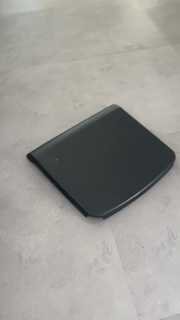Seat: (24, 102, 180, 222)
